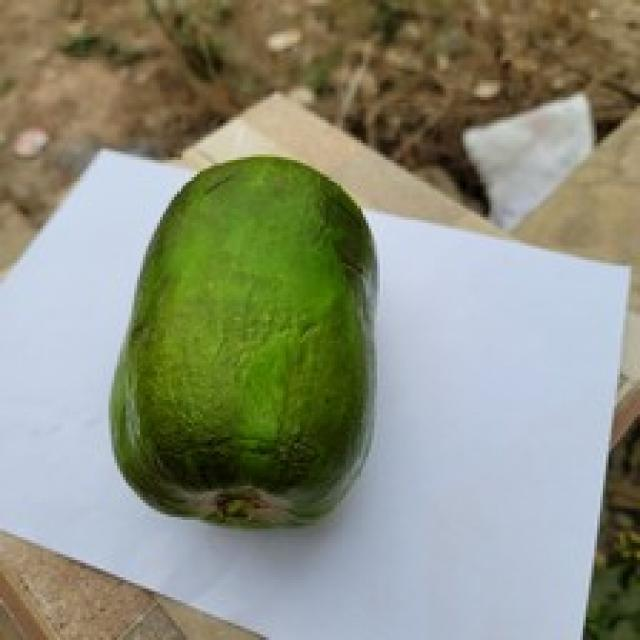Pepaya unrippen: (107, 136, 395, 531)
